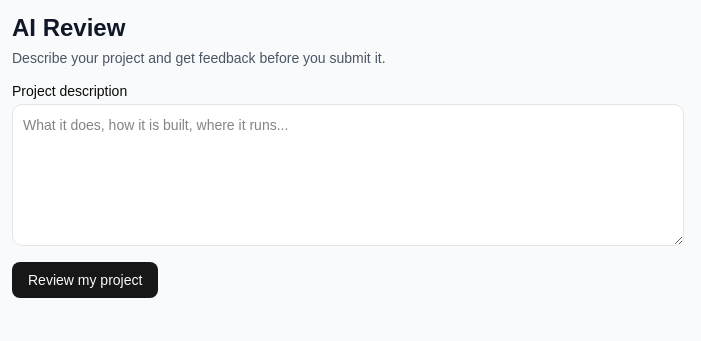
it: ReviewPage › shows the schema message when the form is sent empty
Click the button "Review my project". click: (85, 280)
box: [12,262,158,298]
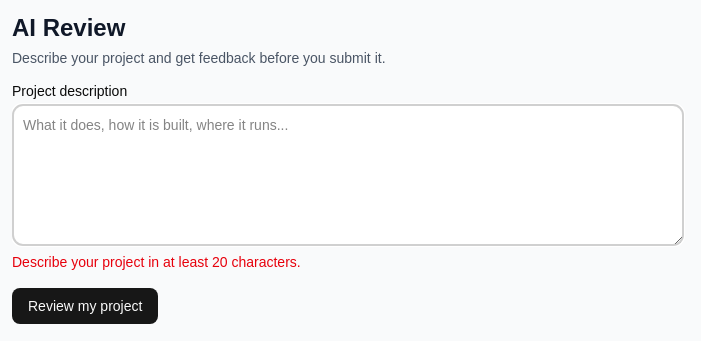
Now the text "Describe your project in at least 20 characters." is shown, box [12,254,301,270]
